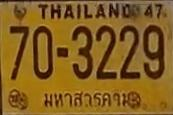0: (32, 26, 52, 78)
2: (119, 24, 140, 80), (96, 25, 116, 79)
3: (71, 25, 92, 78)
7: (9, 25, 28, 79)
9: (142, 24, 164, 78)
MKM: (38, 87, 133, 108)
